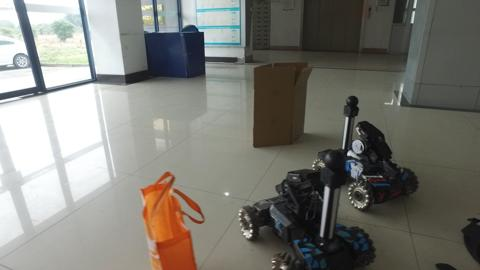bag: (143, 174, 197, 270)
chariot: (231, 150, 377, 270), (318, 94, 420, 206)
